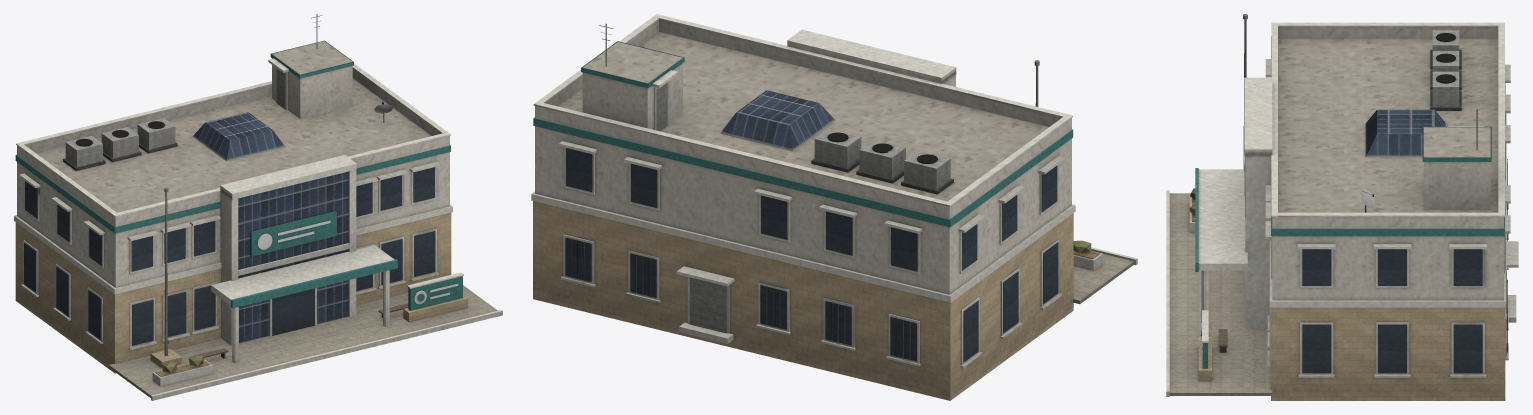
The model's file is civ_center.glb.
3 renders of one model, left to right at view 1: azimuth 30°, elevation 25°; view 2: azimuth 150°, elevation 25°; view 3: azimuth 270°, elevation 25°, orthographic. The views are drawn at different scales.
Parts seen in each view (by area): view 1: civ_center; view 2: civ_center; view 3: civ_center.
Boxes of the visible parts, x1,y1,x2,y2 form: civ_center: [14, 14, 502, 400]; civ_center: [531, 14, 1137, 400]; civ_center: [1166, 14, 1518, 400].
Bounding box in the file's own units: 21.4 × 13.1 × 15.81.
Materials: 2 (2 with a texture image).
